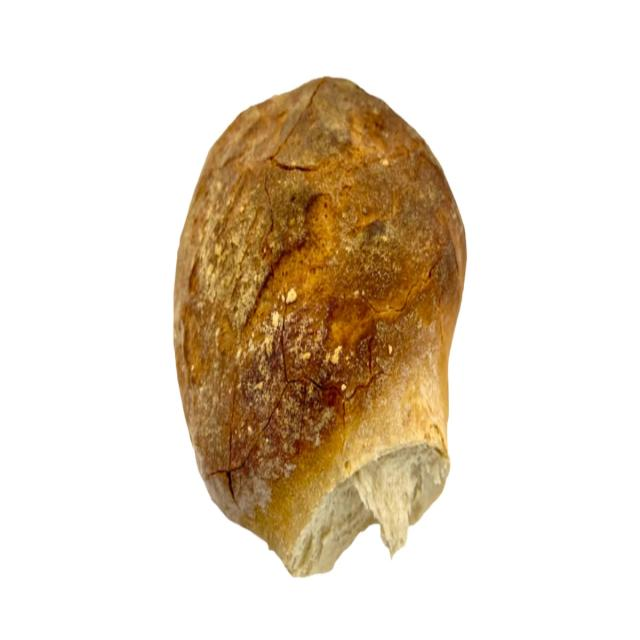Maltese-Bread: (174, 79, 466, 572)
